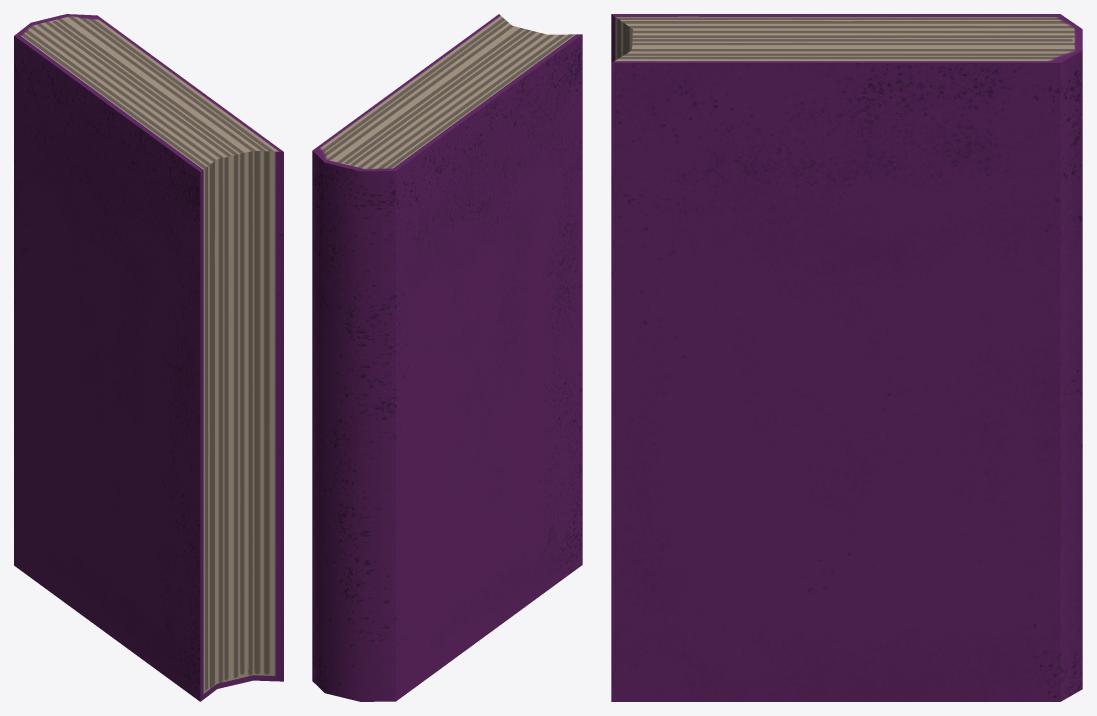
Rendered from PurpleBook_exp.fbx.
3 renders of one model, left to right at view 1: azimuth 30°, elevation 25°; view 2: azimuth 150°, elevation 25°; view 3: azimuth 270°, elevation 25°, orthographic. The views are drawn at different scales.
Parts seen in each view (by area): view 1: pCube2; view 2: pCube2; view 3: pCube2.
Boxes of the visible parts, x1,y1,x2,y2 form: pCube2: [14, 14, 283, 701]; pCube2: [312, 14, 582, 701]; pCube2: [611, 14, 1082, 701].
Bounding box in the file's own units: 0.3412 × 2.07 × 1.38.
Materials: 1 (1 with a texture image).
